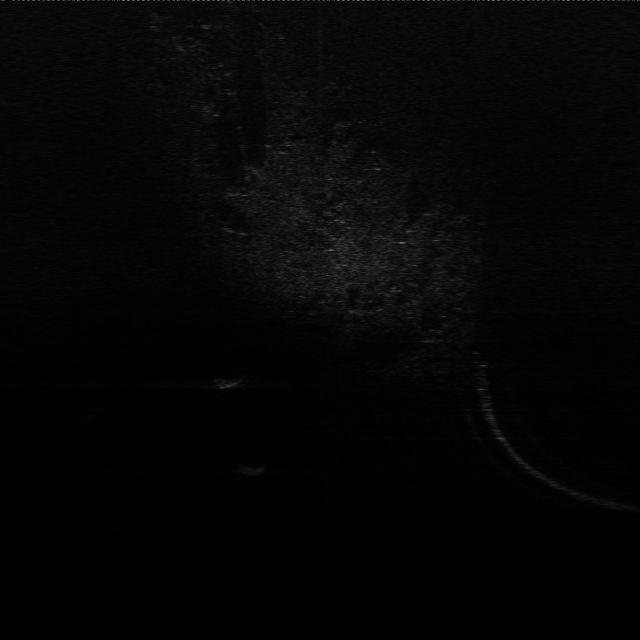cube: (234, 457, 274, 478)
square cage: (213, 370, 248, 394)
